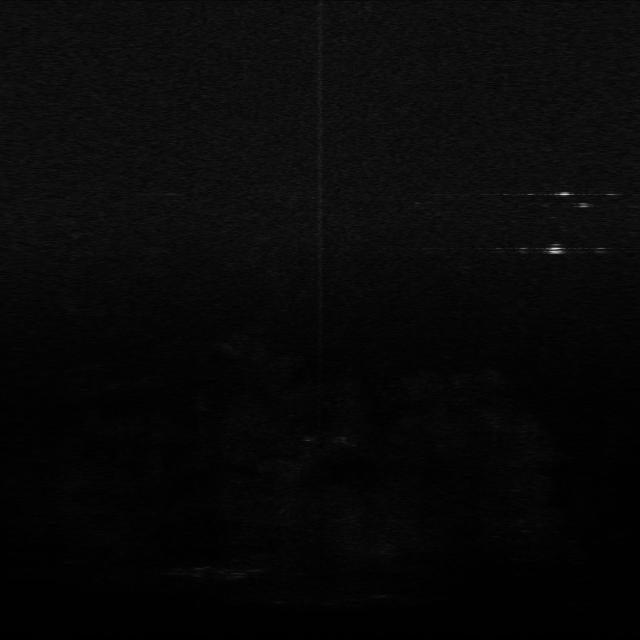rov: (543, 242, 567, 259)
